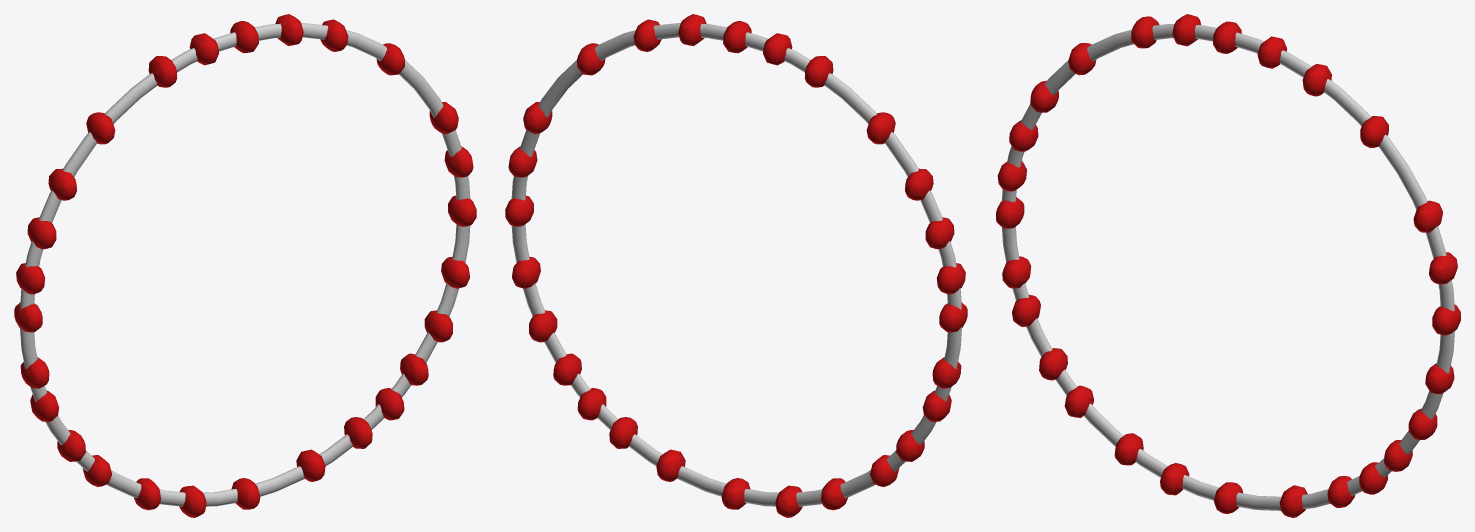
The picture shows the model from 3 angles, left to right: view 1: azimuth 30°, elevation 25°; view 2: azimuth 150°, elevation 25°; view 3: azimuth 330°, elevation 25°; orthographic projection.
Parts seen in each view (by area): view 1: Electron_Mball, Ring_Torus; view 2: Electron_Mball, Ring_Torus; view 3: Electron_Mball, Ring_Torus.
Boxes of the visible parts, left/top/right/bottom form: Electron_Mball: left=14, top=14, right=476, bottom=517; Ring_Torus: left=20, top=23, right=470, bottom=506; Electron_Mball: left=505, top=14, right=967, bottom=517; Ring_Torus: left=511, top=23, right=961, bottom=506; Electron_Mball: left=996, top=14, right=1460, bottom=517; Ring_Torus: left=1002, top=24, right=1454, bottom=510.
Bounding box in the file's own units: 2.91 × 2.96 × 0.2136.
